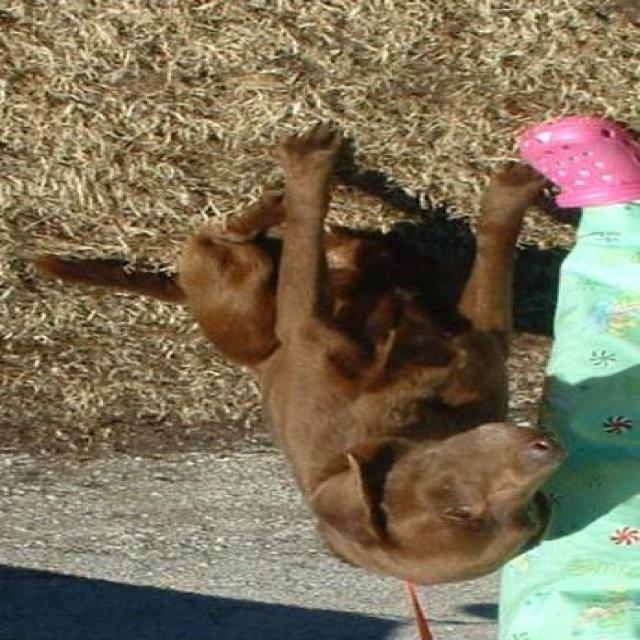dog: (34, 103, 581, 608)
